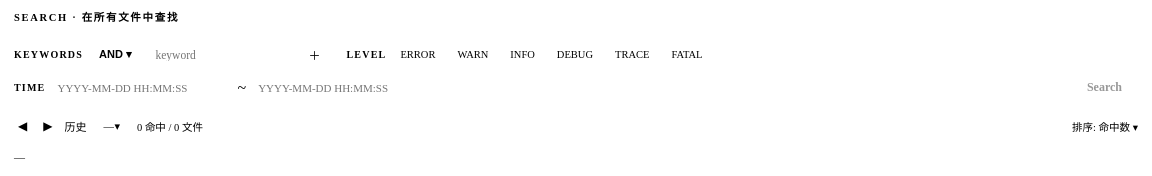
Scenario: SearchPanel form validation › enables the Search button once a keyword is added
Type "refused" into the field named "keyword input" at (220, 54), box [148,46,294,64]
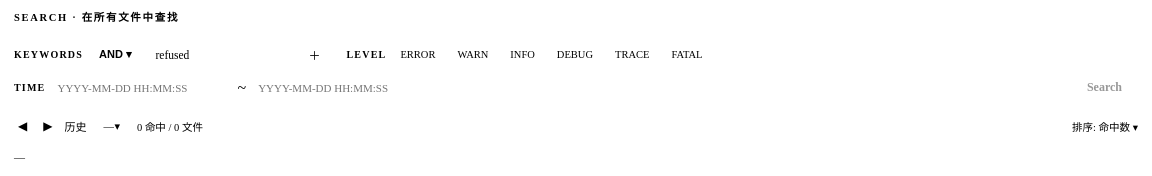
Click the button named "add keyword" at (314, 54), box [300,43,330,66]
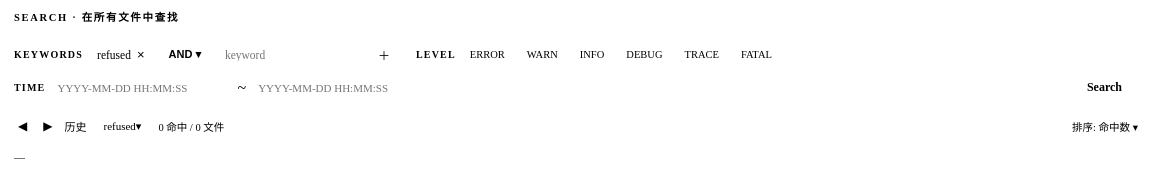
Expected: the button "Search" is enabled, [1071,74,1138,101]
